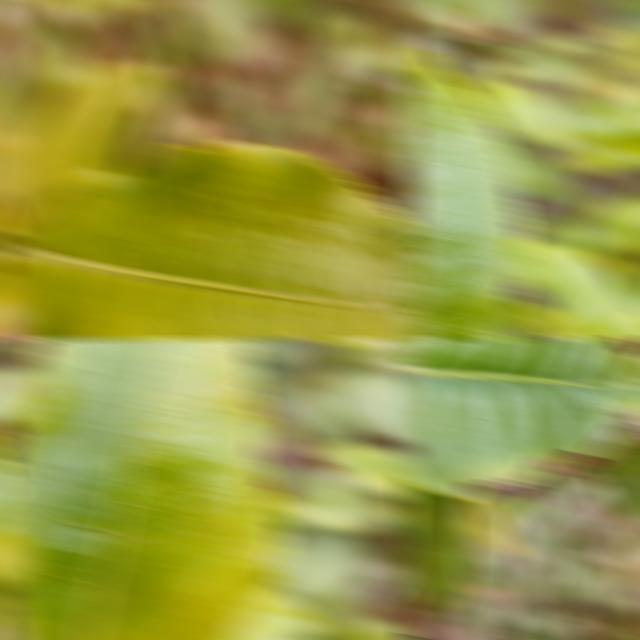Leaf: (0, 142, 416, 340), (0, 338, 268, 640), (402, 338, 640, 501), (402, 49, 528, 340), (157, 463, 288, 640), (24, 59, 165, 217), (402, 478, 471, 640), (511, 239, 635, 329), (285, 37, 360, 142), (470, 80, 570, 150), (307, 441, 416, 502), (272, 478, 389, 534), (582, 431, 640, 531), (219, 586, 324, 640), (180, 0, 269, 62)
